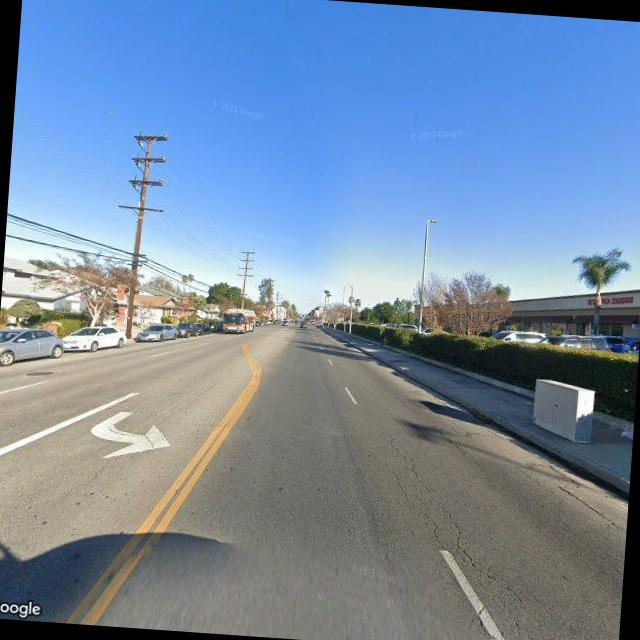crack: (360, 424, 498, 568)
